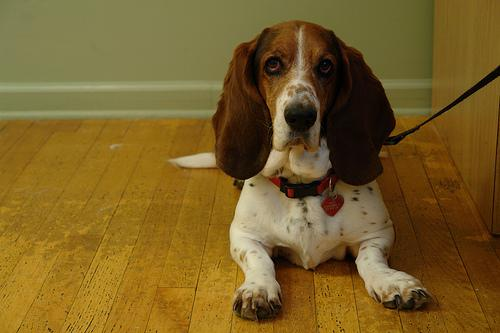dog: (211, 20, 394, 184)
